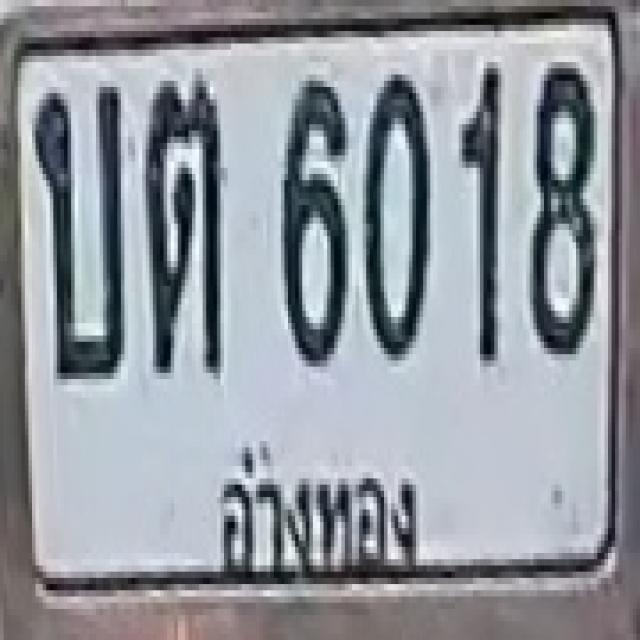-: (30, 81, 123, 379), (144, 78, 222, 376)
0: (363, 68, 430, 360)
1: (459, 62, 501, 361)
6: (281, 75, 345, 366)
8: (526, 59, 594, 351)
ATG: (204, 423, 426, 587)
